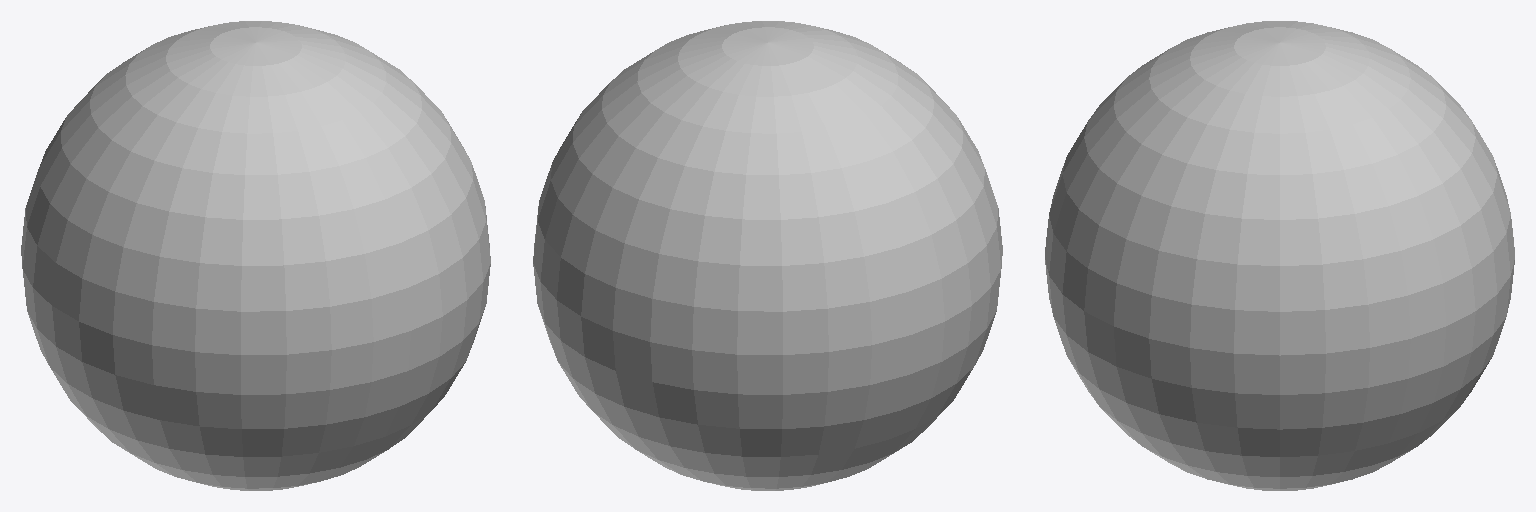
Rendered from sky_uv.obj.
3 views of the same model, side by side, from view 1: azimuth 30°, elevation 25°; view 2: azimuth 150°, elevation 25°; view 3: azimuth 270°, elevation 25° (orthographic).
Parts seen in each view (by area): view 1: Sphere; view 2: Sphere; view 3: Sphere.
Boxes of the visible parts, x1,y1,x2,y2 form: Sphere: [21, 21, 490, 490]; Sphere: [533, 21, 1002, 490]; Sphere: [1045, 21, 1514, 490].
Size of the model in its own units: 2 by 2 by 2.